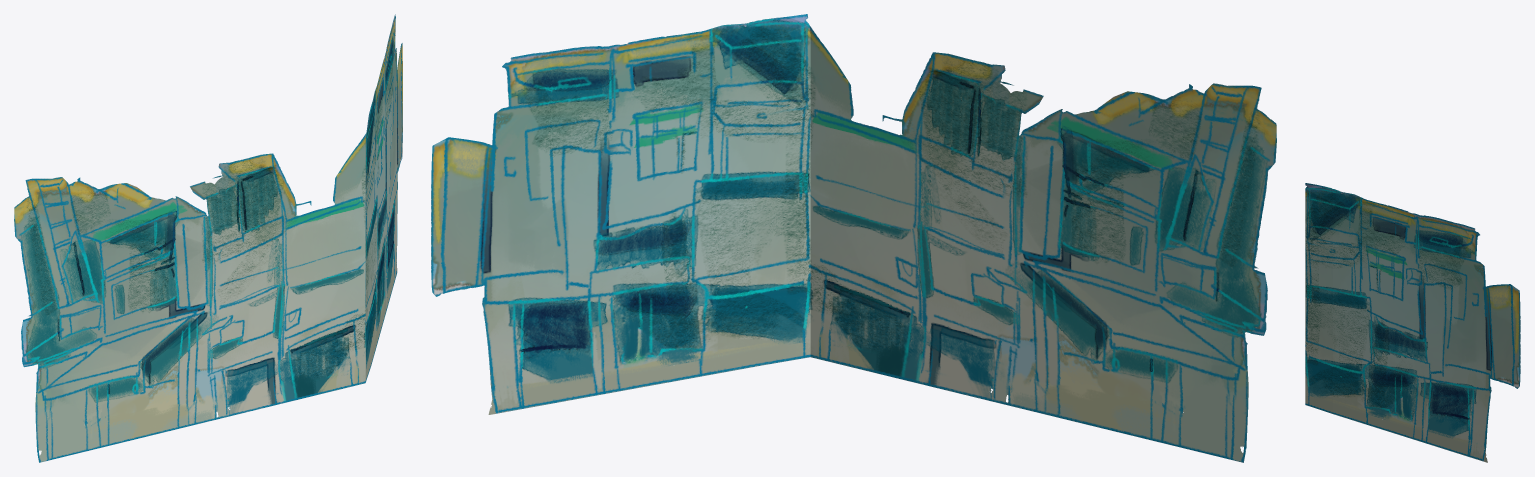
The model's file is house_3.fbx.
3 renders of one model, left to right at view 1: azimuth 30°, elevation 25°; view 2: azimuth 150°, elevation 25°; view 3: azimuth 270°, elevation 25°, orthographic. The views are drawn at different scales.
Parts seen in each view (by area): view 1: mask8; view 2: mask8; view 3: mask8.
Part boxes in pixels (x1,y1,x2,y2): mask8: (14, 14, 402, 462); mask8: (431, 14, 1276, 462); mask8: (1305, 183, 1520, 462).
Size of the model in its own units: 1.52 by 0.812 by 0.6393.
1 material, 1 textured.
